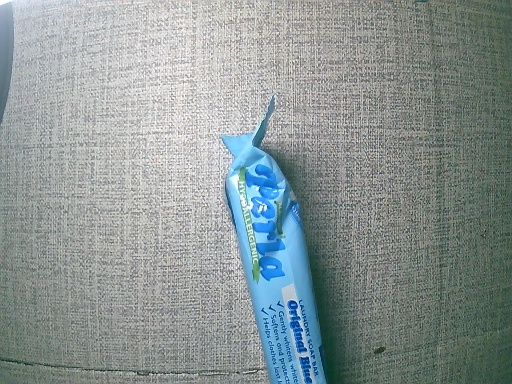plastic: (213, 93, 328, 384)
